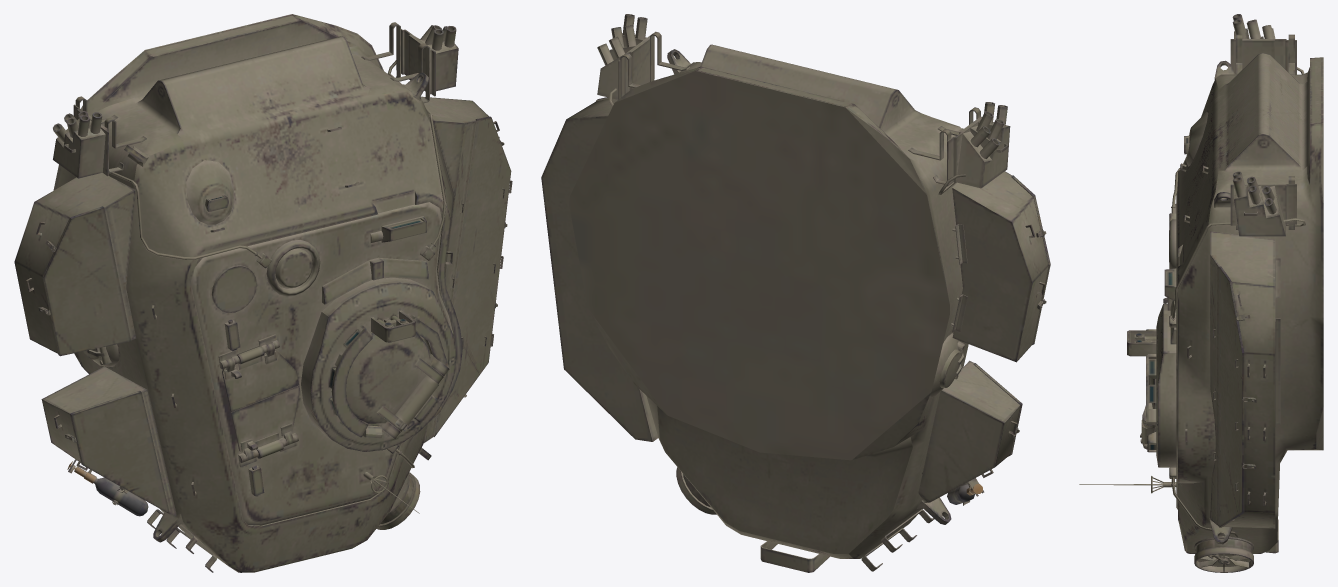
File: Turret_01.glb
3 renders of one model, left to right at view 1: azimuth 30°, elevation 25°; view 2: azimuth 150°, elevation 25°; view 3: azimuth 270°, elevation 25°, orthographic. The views are drawn at different scales.
Visible parts, largest first — view 1: set_0_group_0; view 2: set_0_group_0; view 3: set_0_group_0.
Boxes of the visible parts, x1,y1,x2,y2 form: set_0_group_0: (14, 14, 512, 572); set_0_group_0: (541, 14, 1050, 572); set_0_group_0: (1079, 14, 1323, 572).
Size of the model in its own units: 3.33 by 3.21 by 1.59.
Materials: 1 (1 with a texture image).
